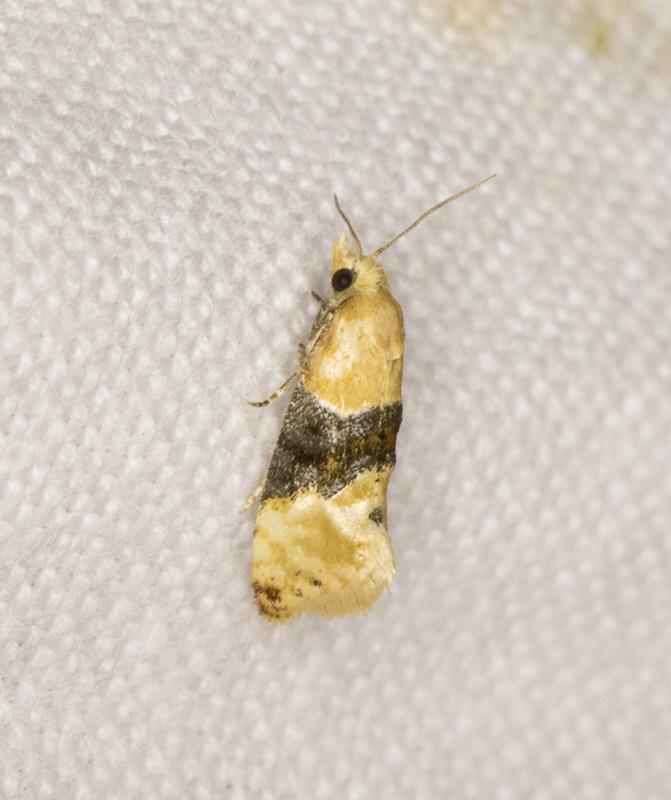Eupoecilia Ambiguella: (239, 170, 499, 626)
